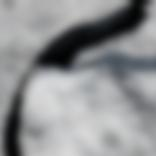brick: (23, 66, 155, 155)
broken_brick: (0, 0, 127, 23), (146, 0, 155, 18)
crack: (2, 0, 153, 155)
